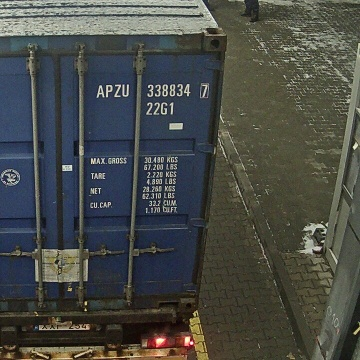serial_id: (96, 84, 208, 97)
